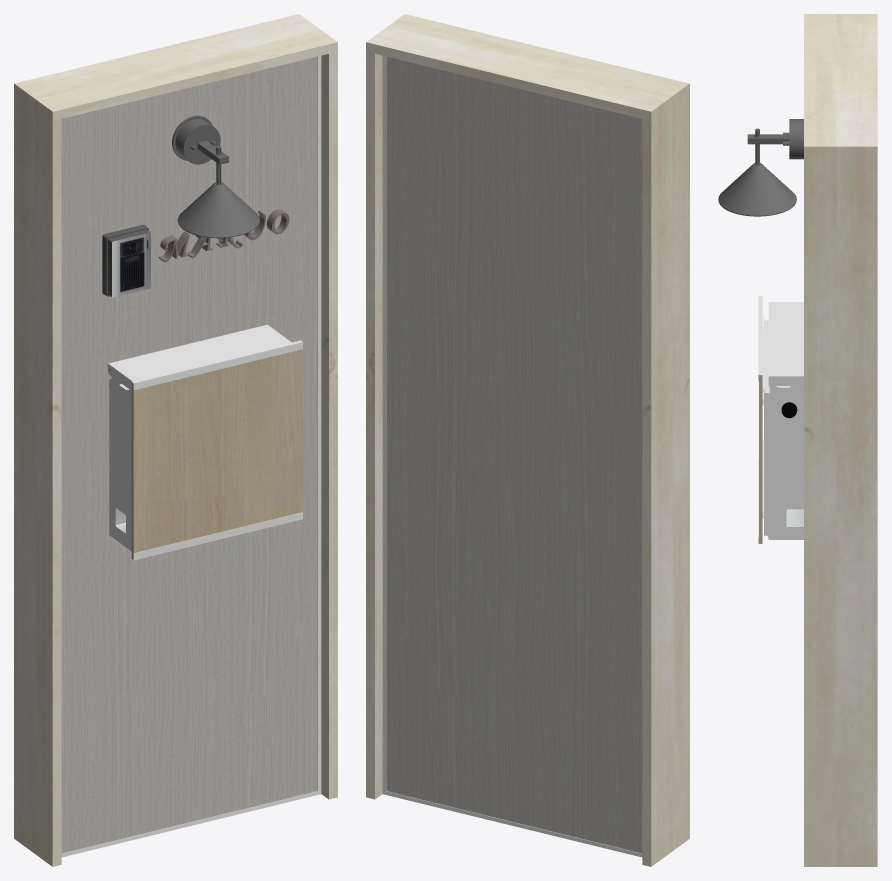
Rendered from 640-1620_greige.fbx.
The picture shows the model from 3 angles, left to right: view 1: azimuth 30°, elevation 25°; view 2: azimuth 150°, elevation 25°; view 3: azimuth 270°, elevation 25°; orthographic projection. The views are drawn at different scales.
Parts seen in each view (by area): view 1: 640-1620_gureju; view 2: 640-1620_gureju; view 3: 640-1620_gureju.
Part boxes in pixels (<box>): 640-1620_gureju: <box>14,14,337,866</box>; 640-1620_gureju: <box>366,14,689,866</box>; 640-1620_gureju: <box>718,14,877,866</box>.
Bounding box in the file's own units: 64 × 162 × 32.47.
Materials: 14 (5 with a texture image).
